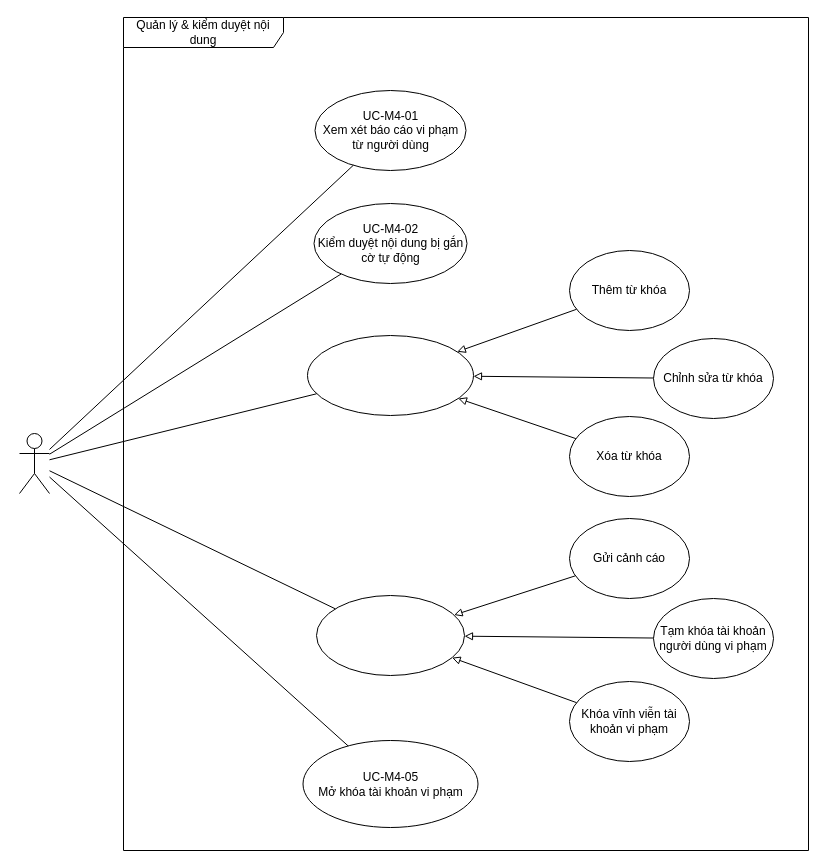
Some shapes in this 826 by 868 pixel diagram are drawn without their labels. The centre of each missing label's shape, as x and y in pixels:
Admin: point (34, 463)
UC-M4-03 Quản lý bộ lọc từ khóa: point (390, 375)
UC-M4-04 Xử lý tài khoản vi phạm: point (390, 635)
